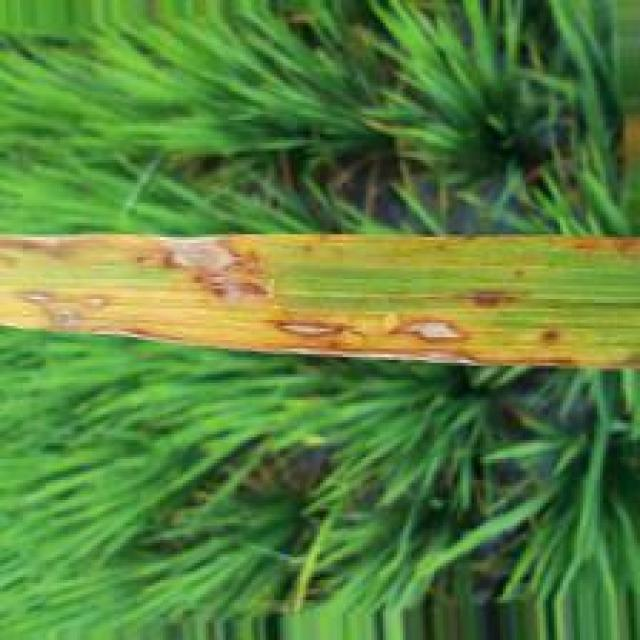Bacterial_Leaf_Blight: (0, 287, 497, 368), (9, 231, 281, 302)
